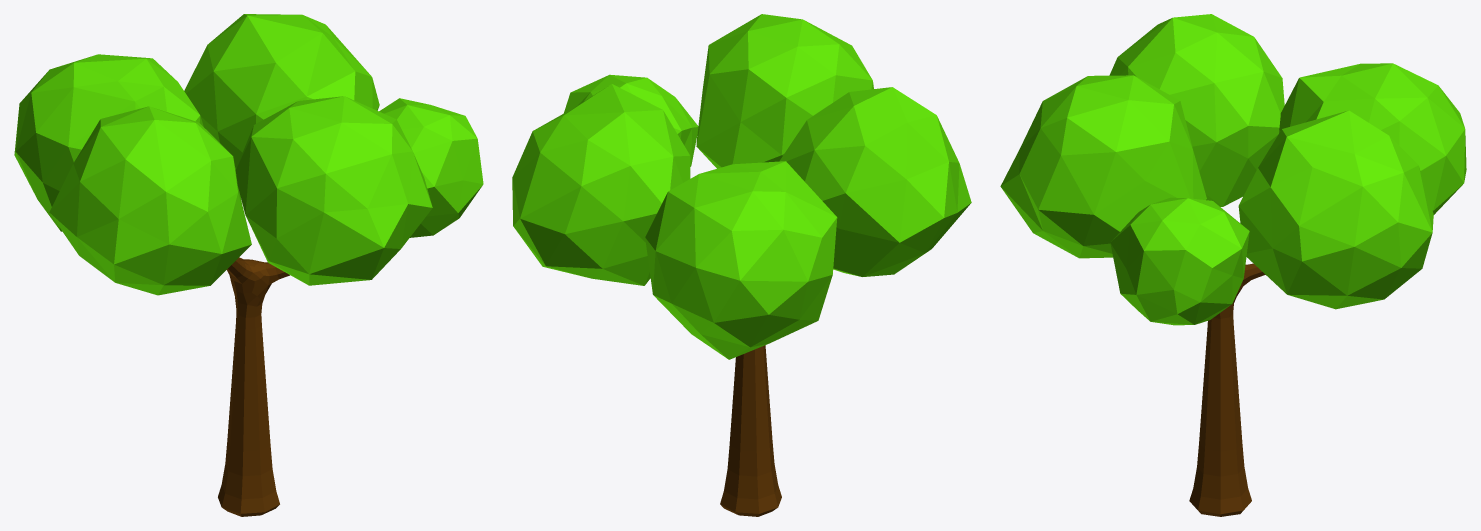
File: Tree03_4.fbx
3 renders of one model, left to right at view 1: azimuth 30°, elevation 25°; view 2: azimuth 150°, elevation 25°; view 3: azimuth 270°, elevation 25°, orthographic.
Parts seen in each view (by area): view 1: t4leaf, t4root; view 2: t4leaf, t4root; view 3: t4leaf, t4root.
Part boxes in pixels (<box>): t4leaf: <box>14,14,483,295</box>; t4root: <box>218,257,289,516</box>; t4leaf: <box>512,14,971,359</box>; t4root: <box>720,345,781,516</box>; t4leaf: <box>1000,14,1466,325</box>; t4root: <box>1189,263,1265,516</box>.
Size of the model in its own units: 787 by 816 by 796.
